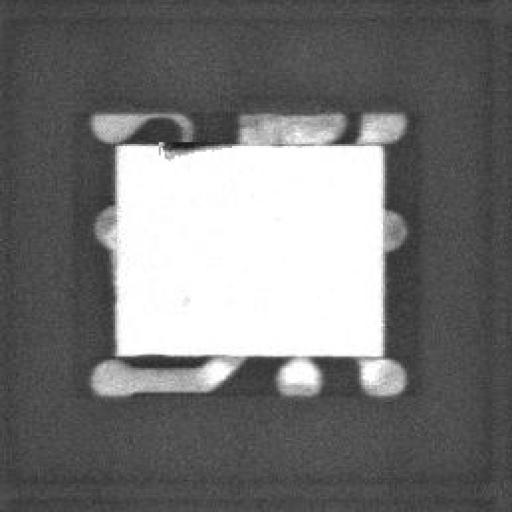DIE_BROKEN: (153, 135, 238, 159)
